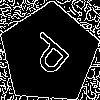P: (24, 29, 79, 84)
